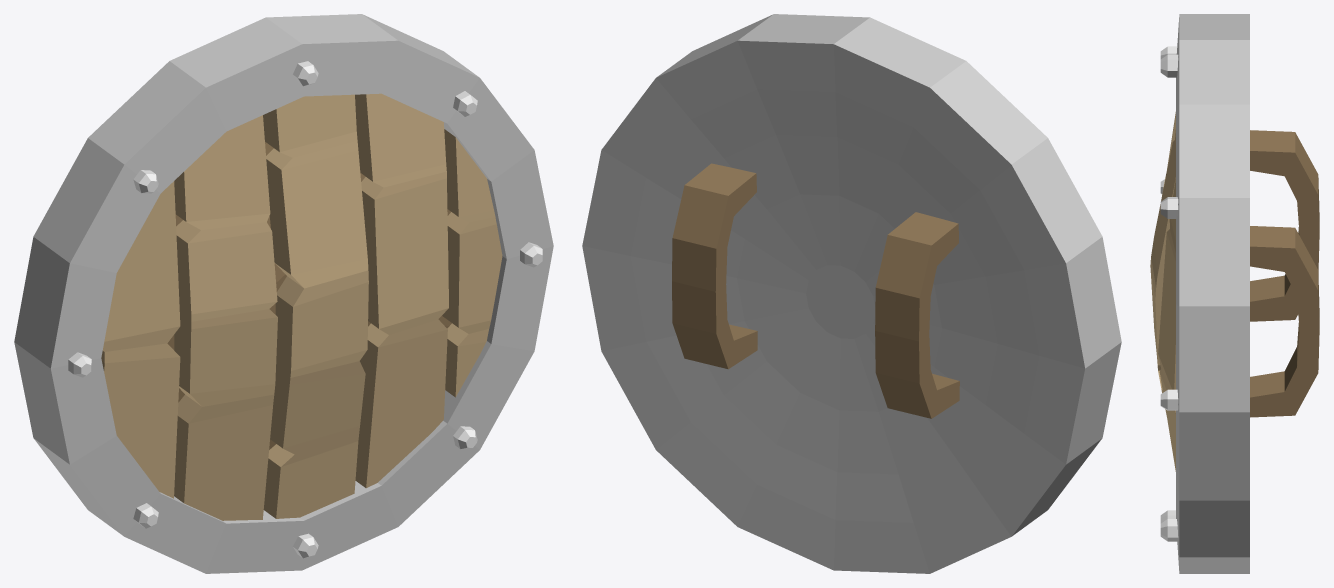
Rendered from q_round.gltf.
3 renders of one model, left to right at view 1: azimuth 30°, elevation 25°; view 2: azimuth 150°, elevation 25°; view 3: azimuth 270°, elevation 25°, orthographic. The views are drawn at different scales.
Parts seen in each view (by area): view 1: Shield_Round; view 2: Shield_Round; view 3: Shield_Round.
Part boxes in pixels (x1=…): Shield_Round: x1=14, y1=14, x2=553, y2=573; Shield_Round: x1=582, y1=14, x2=1121, y2=573; Shield_Round: x1=1150, y1=14, x2=1319, y2=573.
Bounding box in the file's own units: 0.62 × 0.62 × 0.1871.
